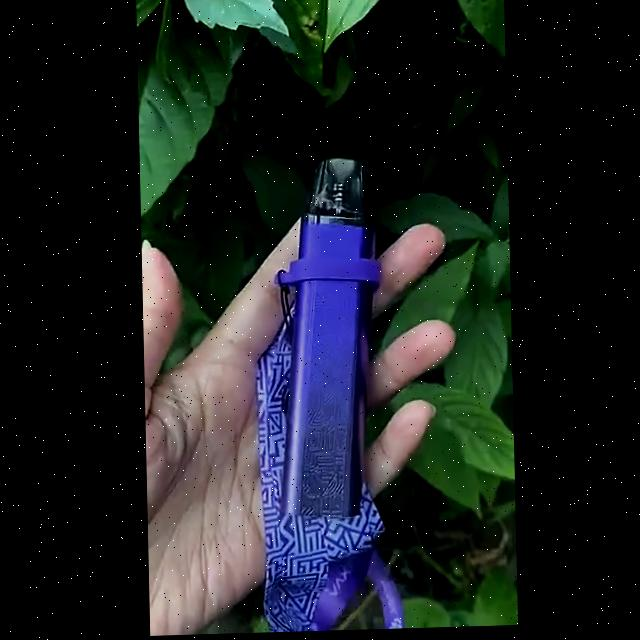vape: (271, 157, 383, 520)
